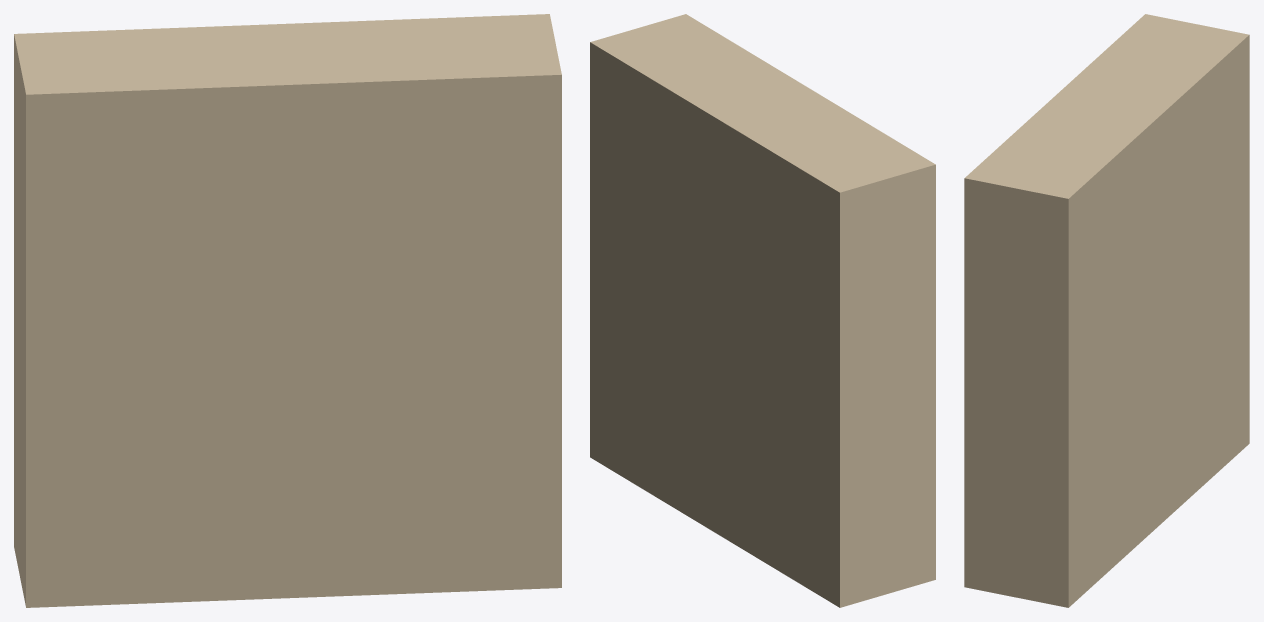
The model's file is 1_-2-estimated-coarse.glb.
3 views of the same model, side by side, from view 1: azimuth 30°, elevation 25°; view 2: azimuth 150°, elevation 25°; view 3: azimuth 270°, elevation 25° (orthographic). The views are drawn at different scales.
Size of the model in its own units: 34.91 by 36 by 22.73.
